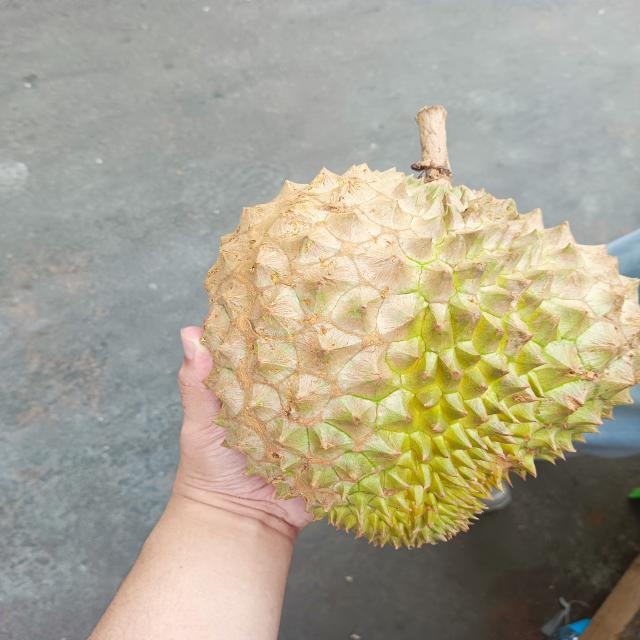mature: (193, 159, 638, 551)
